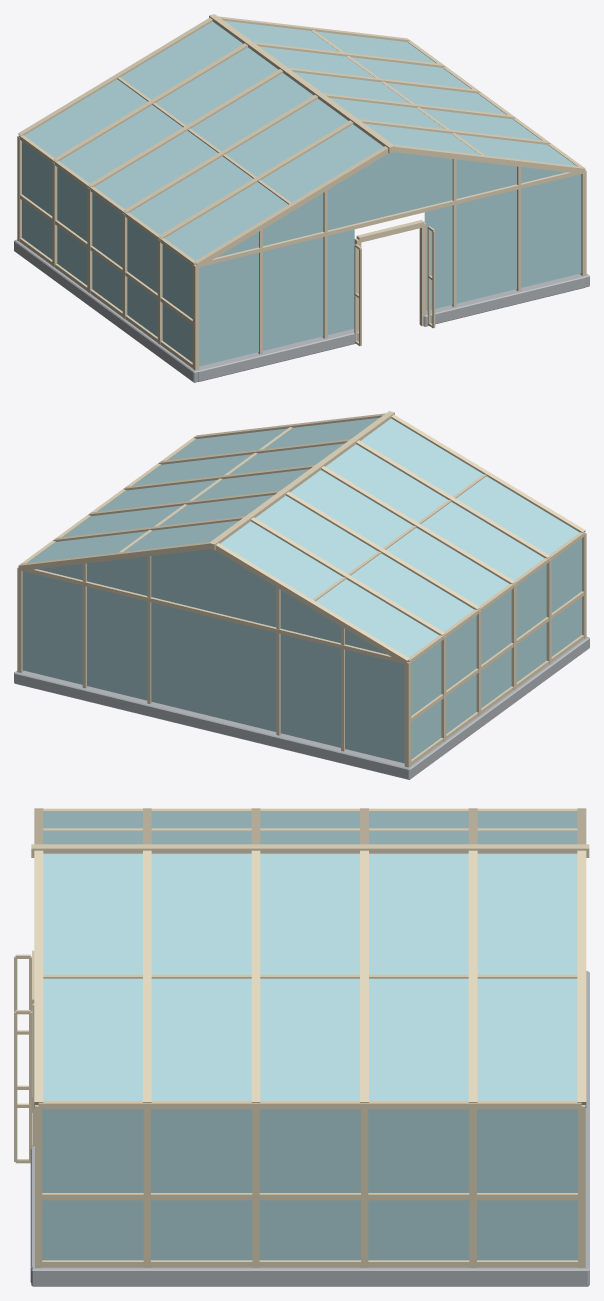
Rendered from greenhouse.glb.
The picture shows the model from 3 angles, top to bottom: view 1: azimuth 30°, elevation 25°; view 2: azimuth 150°, elevation 25°; view 3: azimuth 270°, elevation 25°; orthographic projection. The views are drawn at different scales.
Visible parts, largest first — view 1: greenhouse_glass_pale_blue, greenhouse_建筑共用调色板.032; view 2: greenhouse_glass_pale_blue, greenhouse_建筑共用调色板.032; view 3: greenhouse_glass_pale_blue, greenhouse_建筑共用调色板.032.
Part boxes in pixels (x1,y1,x2,y2): greenhouse_glass_pale_blue: (22,20,581,366); greenhouse_建筑共用调色板.032: (14,14,589,382); greenhouse_glass_pale_blue: (22,417,581,763); greenhouse_建筑共用调色板.032: (14,411,589,779); greenhouse_glass_pale_blue: (42,812,577,1260); greenhouse_建筑共用调色板.032: (14,808,589,1286).
Size of the model in its own units: 9.52 by 4.32 by 7.74.
Materials: 2 (1 with a texture image).
